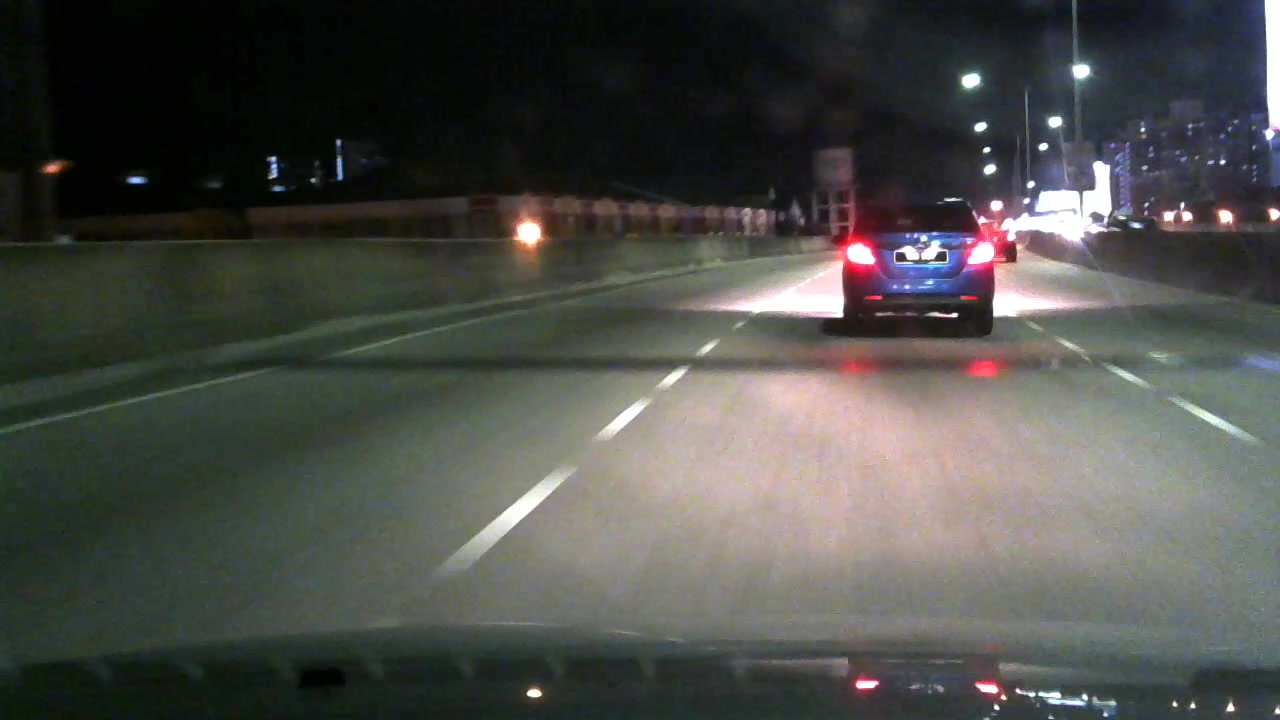Car: (835, 192, 997, 339), (982, 210, 1025, 261)
